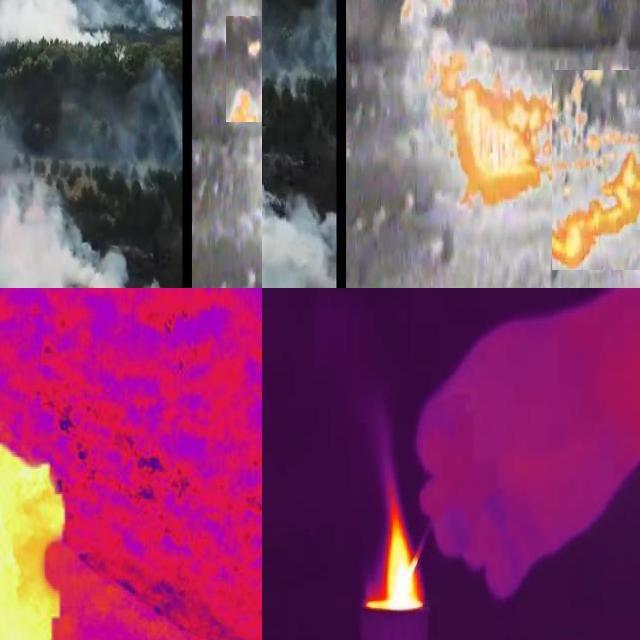fire: (381, 1, 553, 212), (1, 350, 100, 640), (552, 70, 640, 270), (365, 479, 423, 619), (226, 16, 263, 122)
